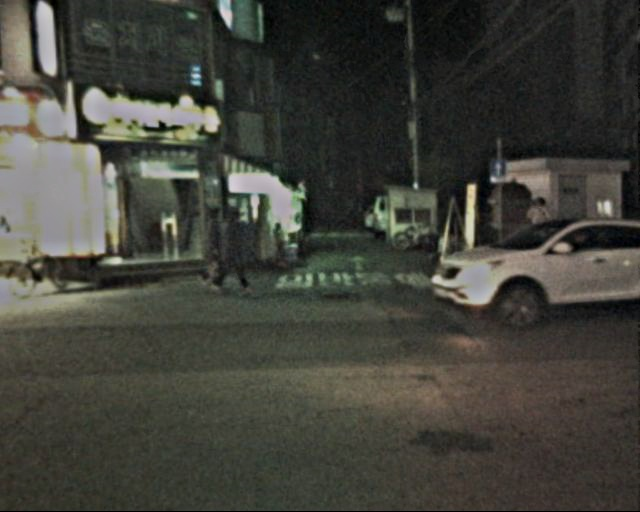person: (211, 206, 255, 297), (191, 200, 233, 289), (521, 195, 557, 280)
